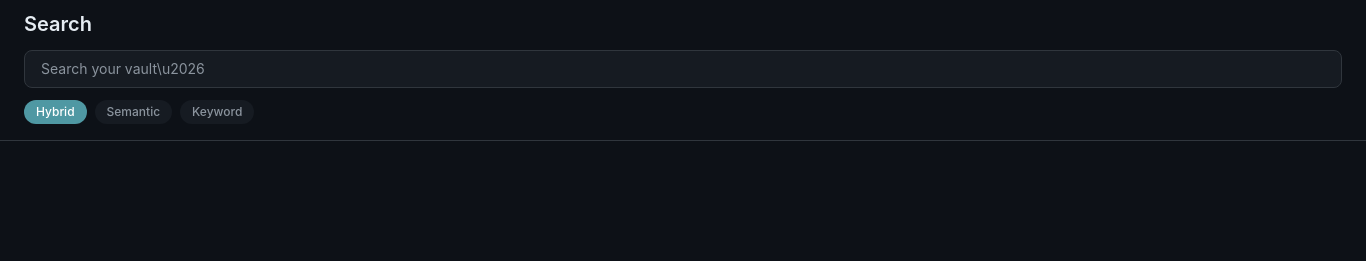
Test case: SearchPage — no results empty state › shows "No results" when hook returns empty items array
The width and height of the screenshot is (1366, 261).
Type "xyz" into the search field.
click(683, 69); type("xyz")  # box [24,50,1342,88]
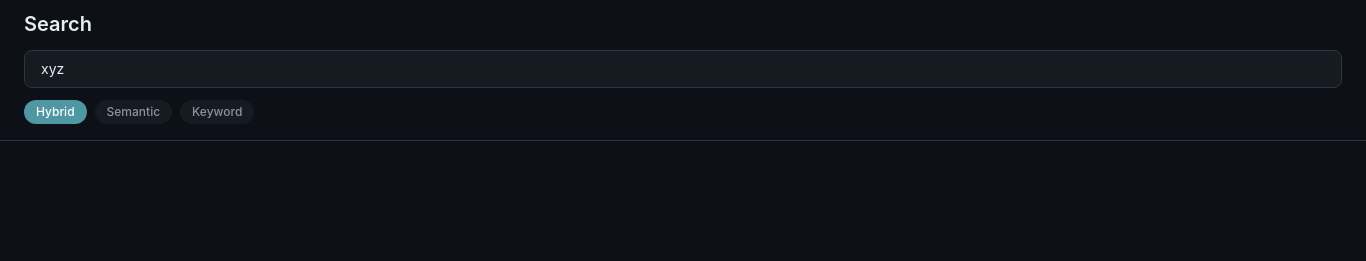
Submit the form, box [24,50,1342,88]
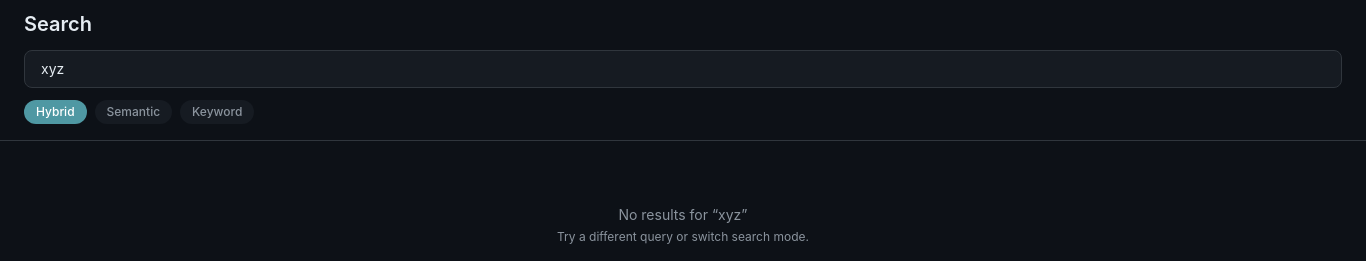
Result: the text "No results for “xyz”" is shown at [618,206,748,223]
